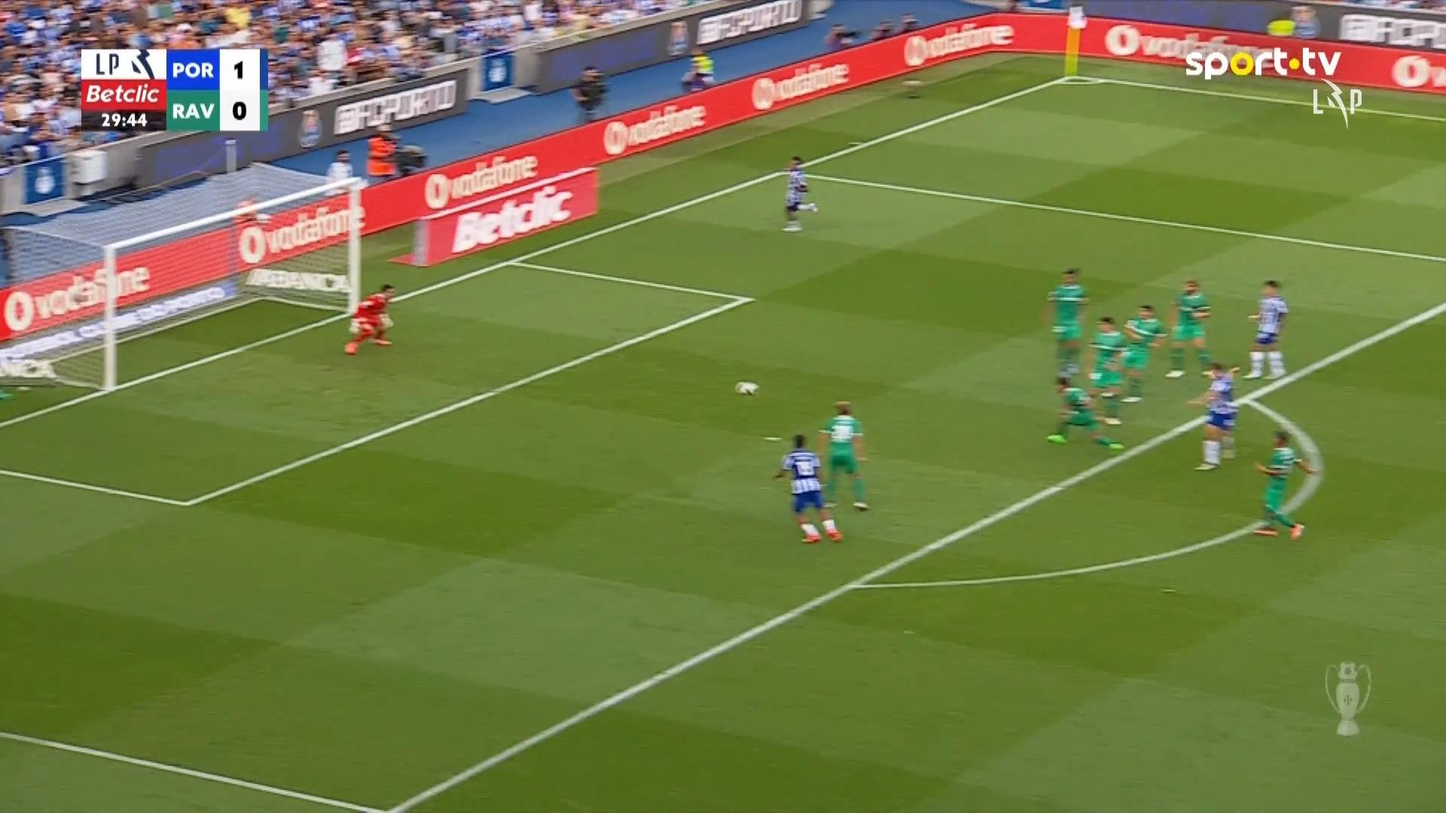ball: (734, 380, 758, 395)
goalkeeper: (343, 282, 396, 355)
player: (773, 432, 843, 544), (1251, 428, 1317, 540), (1045, 370, 1123, 450), (1185, 361, 1240, 470), (816, 399, 870, 510), (1042, 266, 1089, 385), (1164, 278, 1213, 378), (1118, 303, 1167, 402), (1086, 315, 1129, 425), (1241, 279, 1288, 379), (780, 155, 818, 231)
